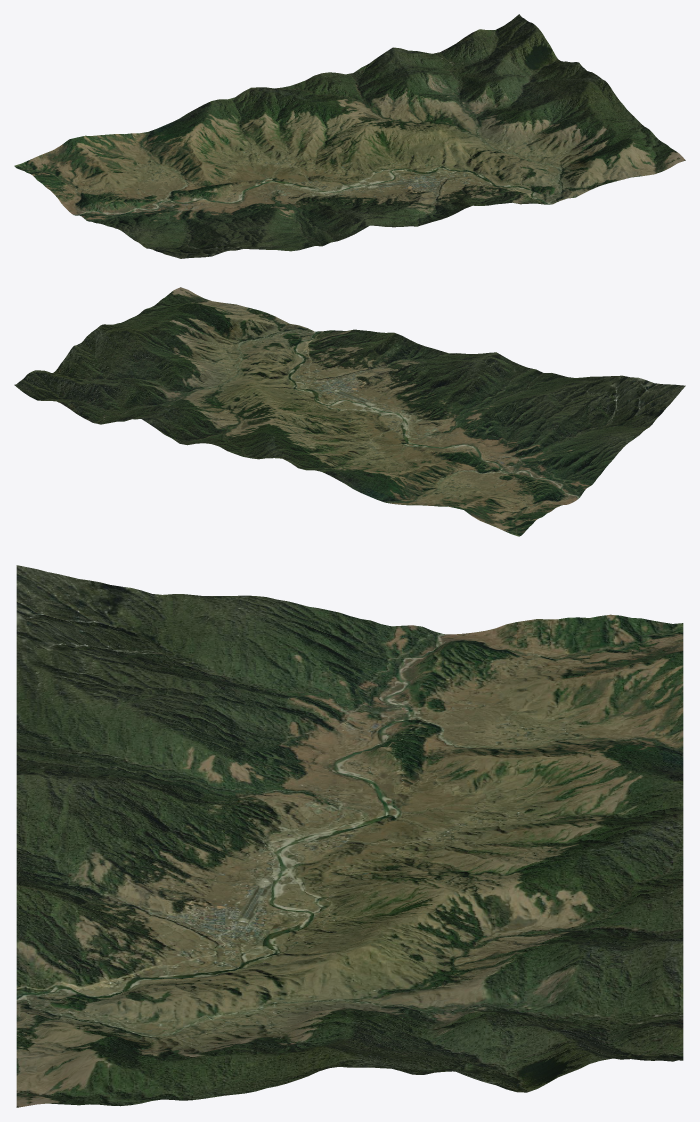
File: MAP MAIN 2 big.glb
The picture shows the model from 3 angles, top to bottom: view 1: azimuth 30°, elevation 25°; view 2: azimuth 150°, elevation 25°; view 3: azimuth 270°, elevation 25°; orthographic projection. The views are drawn at different scales.
Parts seen in each view (by area): view 1: EXPORT_BING_SAT_WM; view 2: EXPORT_BING_SAT_WM; view 3: EXPORT_BING_SAT_WM.
Part boxes in pixels (x1,y1,x2,y2): EXPORT_BING_SAT_WM: (14, 14, 685, 258); EXPORT_BING_SAT_WM: (14, 287, 685, 536); EXPORT_BING_SAT_WM: (16, 565, 683, 1107).
Size of the model in its own units: 17122 by 1204 by 9784.
1 material, 1 textured.
